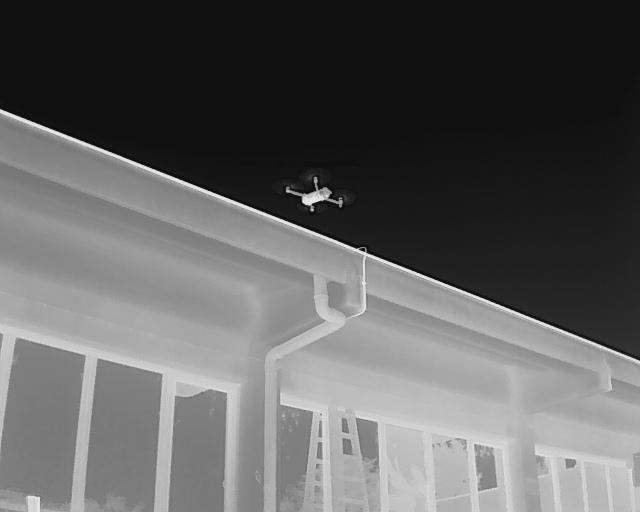drone: (268, 164, 359, 223)
